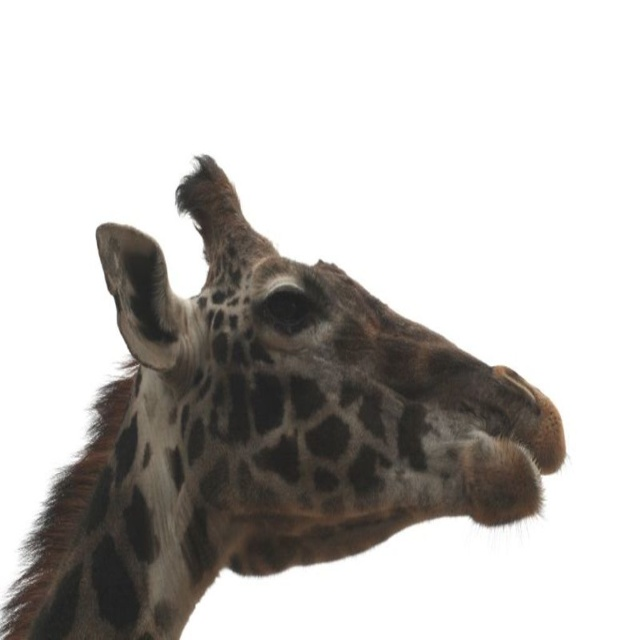Giraffe: (0, 148, 569, 639)
